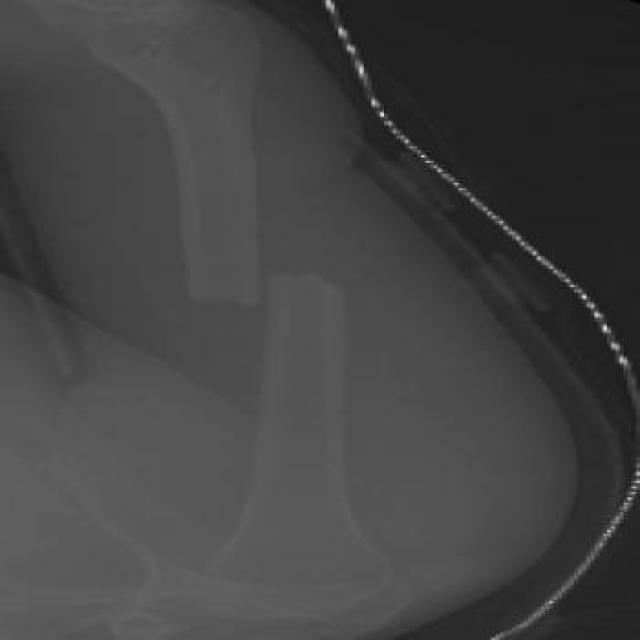fracture: (171, 256, 372, 320)
